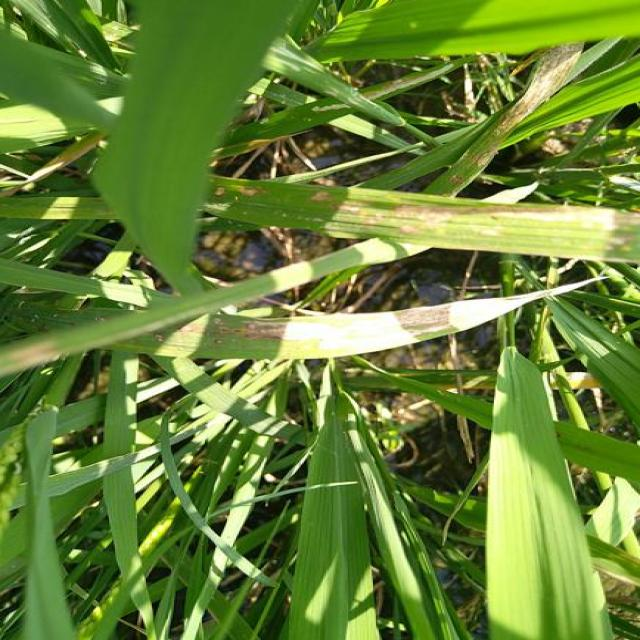Leaf Streak: (94, 277, 599, 360), (204, 175, 640, 263), (445, 42, 584, 197), (0, 345, 66, 377)
